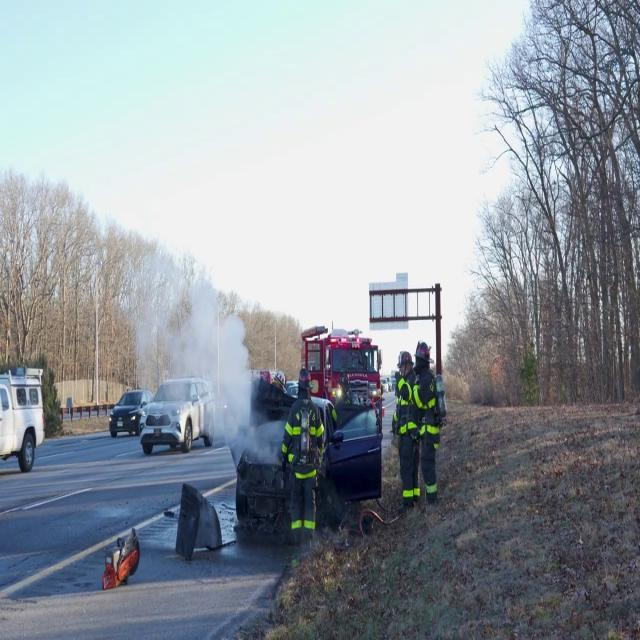Smoke: (132, 250, 264, 457)
